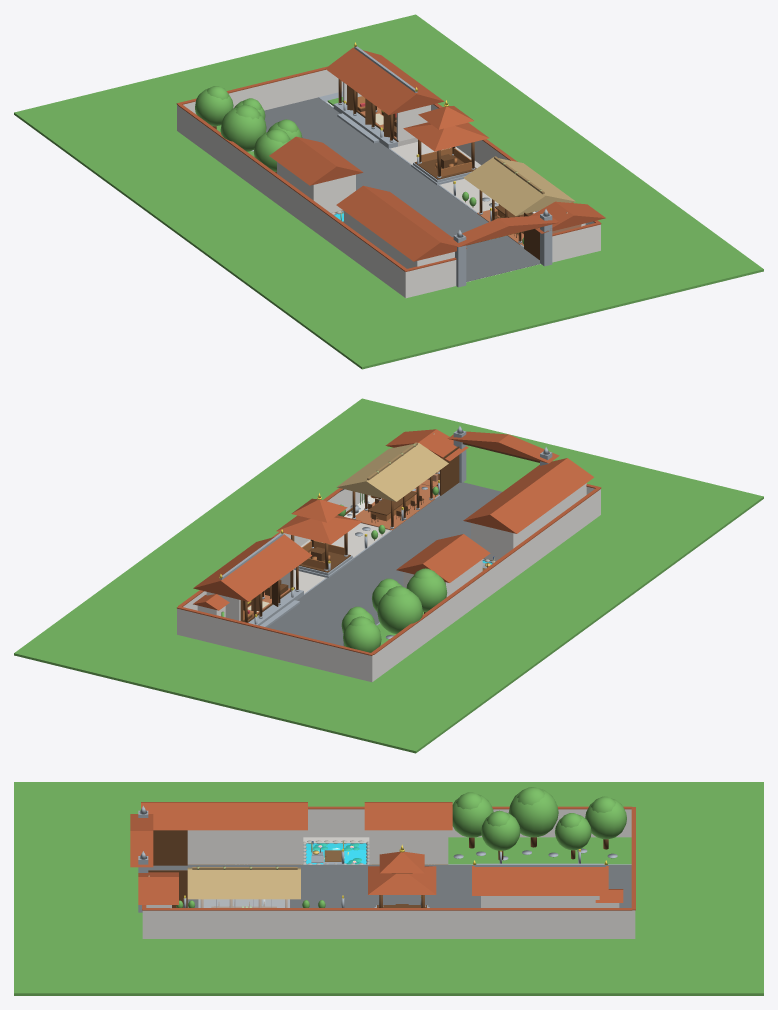
The model's file is khu_nha_dong_ho.glb.
3 renders of one model, top to bottom at view 1: azimuth 30°, elevation 25°; view 2: azimuth 150°, elevation 25°; view 3: azimuth 270°, elevation 25°, orthographic. The views are drawn at different scales.
Parts seen in each view (by area): view 1: Co_Ngoai_Nam, Co_Ngoai_Tay, Co_Ngoai_Bac, Co_Ngoai_Dong, DuongChinh_8m, TuongRao_Trai, Mai_Nha3Gian, Mai_NhaAn_MaiLa, Mai_NhaKhach3_6x4, TuongRao_Sau, Mai_NhaKhach1_6x4, Mai_NhaKhach2_6x4 (+15 smaller); view 2: Co_Ngoai_Bac, Co_Ngoai_Tay, Co_Ngoai_Nam, Co_Ngoai_Dong, DuongChinh_8m, TuongRao_Trai, TuongRao_Sau, Mai_Nha3Gian, Mai_NhaAn_MaiLa, Mai_NhaKhach2_6x4, Mai_NhaKhach3_6x4, Mai_NhaKhach1_6x4 (+14 smaller); view 3: Co_Ngoai_Dong, Co_Ngoai_Bac, Co_Ngoai_Nam, TuongRao_Phai, Co_Ngoai_Tay, DuongChinh_8m, Mai_Nha3Gian, ThamCo_VuonKhu6, Mai_NhaAn_MaiLa, Mai_NhaKhach3_6x4, TuongRao_Trai, Mai_NhaKhach2_6x4 (+25 smaller).
Boxes of the visible parts, x1=… form: Co_Ngoai_Nam: x1=301, y1=224, x2=763, y2=369; Co_Ngoai_Tay: x1=75, y1=132, x2=403, y2=324; Co_Ngoai_Bac: x1=14, y1=14, x2=476, y2=158; Co_Ngoai_Dong: x1=409, y1=59, x2=702, y2=249; DuongChinh_8m: x1=264, y1=97, x2=540, y2=281; TuongRao_Trai: x1=178, y1=106, x2=404, y2=296; Mai_Nha3Gian: x1=325, y1=47, x2=444, y2=115; Mai_NhaAn_MaiLa: x1=463, y1=157, x2=575, y2=215; Mai_NhaKhach3_6x4: x1=269, y1=136, x2=363, y2=185; TuongRao_Sau: x1=177, y1=69, x2=342, y2=131; Mai_NhaKhach1_6x4: x1=373, y1=212, x2=466, y2=261; Mai_NhaKhach2_6x4: x1=336, y1=185, x2=425, y2=231; Co_Ngoai_Bac: x1=14, y1=608, x2=476, y2=753; Co_Ngoai_Tay: x1=374, y1=516, x2=702, y2=708; Co_Ngoai_Nam: x1=301, y1=398, x2=763, y2=542; Co_Ngoai_Dong: x1=75, y1=443, x2=371, y2=633; DuongChinh_8m: x1=267, y1=482, x2=501, y2=645; TuongRao_Trai: x1=373, y1=490, x2=599, y2=680; TuongRao_Sau: x1=177, y1=608, x2=373, y2=682; Mai_Nha3Gian: x1=193, y1=534, x2=311, y2=601; Mai_NhaAn_MaiLa: x1=336, y1=443, x2=448, y2=501; Mai_NhaKhach2_6x4: x1=463, y1=485, x2=553, y2=533; Mai_NhaKhach3_6x4: x1=396, y1=534, x2=490, y2=582; Mai_NhaKhach1_6x4: x1=500, y1=458, x2=594, y2=506; Co_Ngoai_Dong: x1=145, y1=939, x2=632, y2=995; Co_Ngoai_Bac: x1=632, y1=782, x2=763, y2=995; Co_Ngoai_Nam: x1=14, y1=782, x2=145, y2=995; TuongRao_Phai: x1=145, y1=910, x2=632, y2=938; Co_Ngoai_Tay: x1=145, y1=782, x2=632, y2=806; DuongChinh_8m: x1=148, y1=865, x2=631, y2=907; Mai_Nha3Gian: x1=472, y1=866, x2=608, y2=895; ThamCo_VuonKhu6: x1=448, y1=837, x2=631, y2=864; Mai_NhaAn_MaiLa: x1=187, y1=867, x2=300, y2=899; Mai_NhaKhach3_6x4: x1=364, y1=802, x2=452, y2=830; TuongRao_Trai: x1=303, y1=809, x2=631, y2=837; Mai_NhaKhach2_6x4: x1=220, y1=802, x2=307, y2=830.
Bounding box in the file's own units: 38 × 7.15 × 57.
